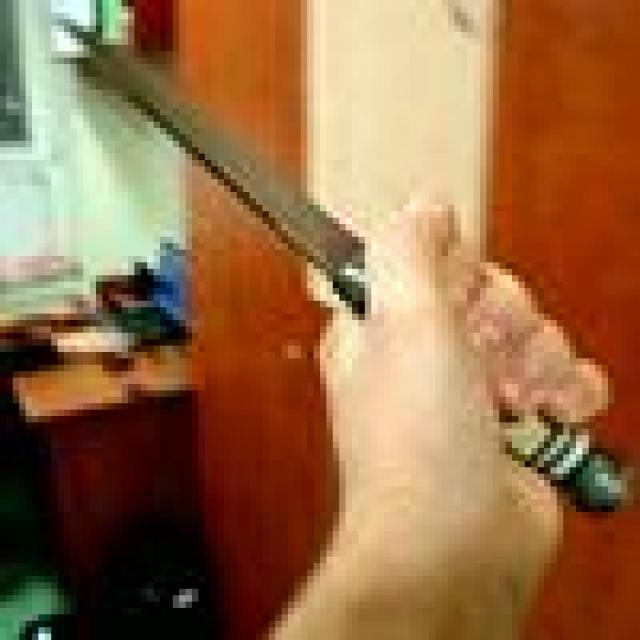knife: (65, 25, 363, 308)
